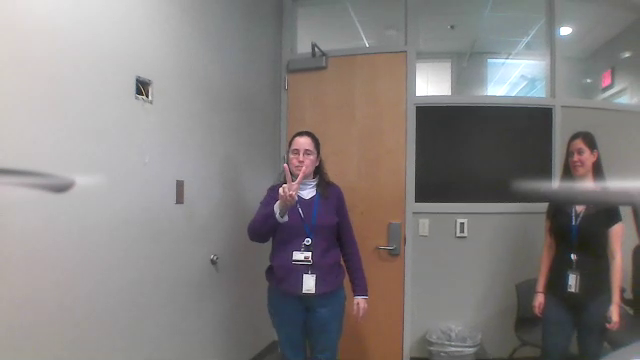peace: (275, 160, 308, 206)
